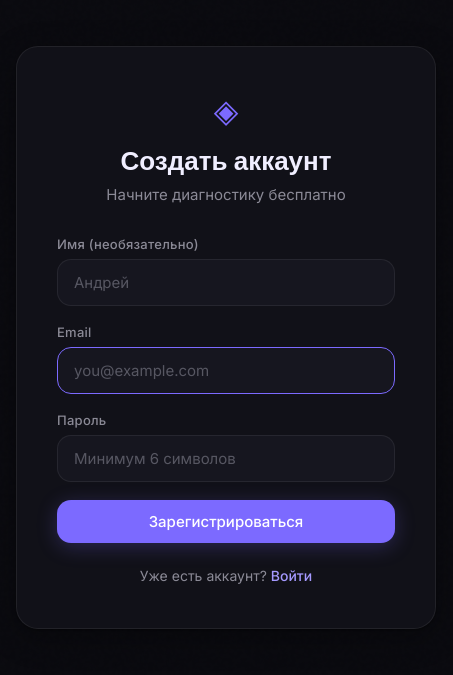
Test: RegisterPage › показывает ошибку если email уже занят
The image size is (453, 675).
Type "taken@example.com" into the field with placeholder "you@example.com" at (226, 370), box [57,346,395,394]
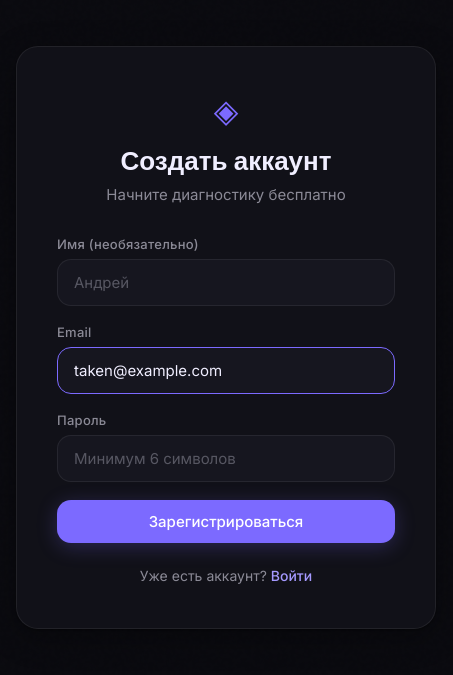
Type "pass123" into the password field with placeholder "Минимум 6 символов" at (226, 458), box [57,434,395,482]
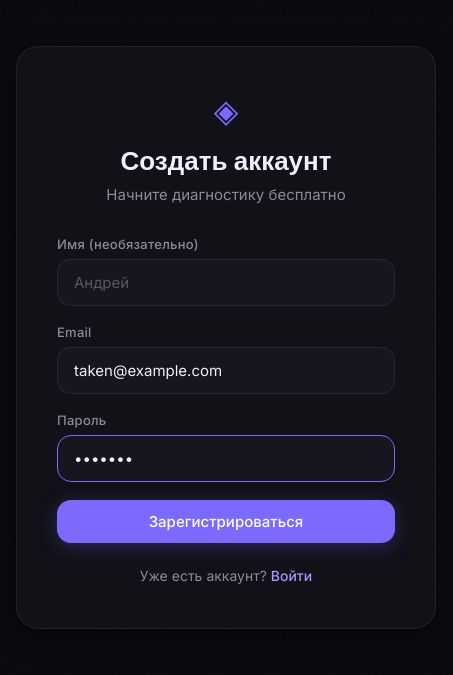
Click the button "Зарегистрироваться" at (226, 521), box [57,500,395,542]
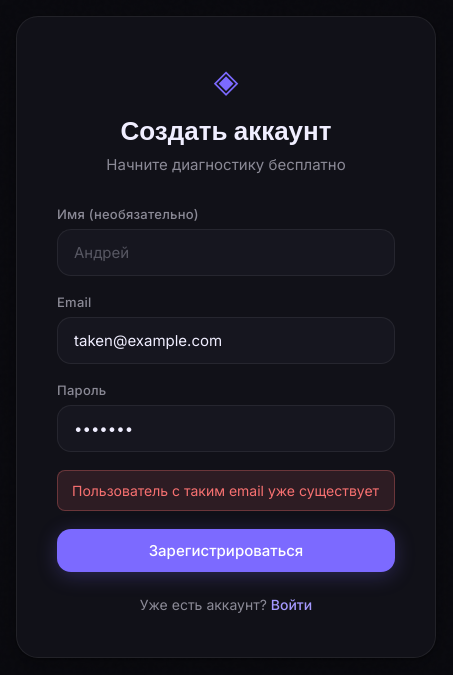
Expected: the text "Пользователь с таким email уже существует" is shown, [57,470,395,511]
